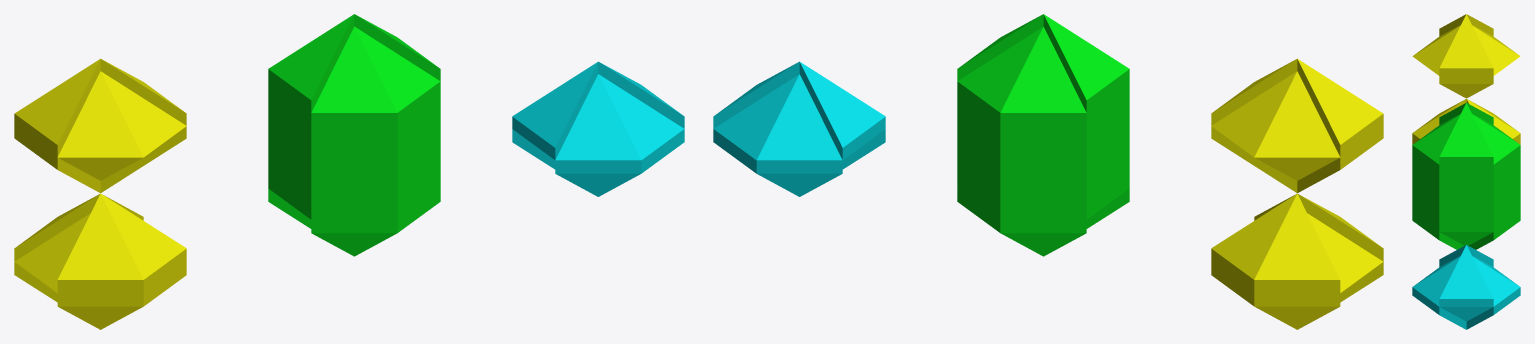
The model's file is tas.fbx.
3 renders of one model, left to right at view 1: azimuth 30°, elevation 25°; view 2: azimuth 150°, elevation 25°; view 3: azimuth 270°, elevation 25°, orthographic. The views are drawn at different scales.
Parts seen in each view (by area): view 1: Circle.001, Circle.006, Circle.013, Circle.003, Circle.012, Circle.004, Circle.002, Circle.005; view 2: Circle.001, Circle.006, Circle.013, Circle.003, Circle.012, Circle.004, Circle.002, Circle.005; view 3: Circle.001, Circle.013, Circle.003, Circle.012, Circle.002, Circle.006, Circle.005.
Part boxes in pixels (<box>): Circle.001: <box>268,14,440,219</box>; Circle.006: <box>14,193,186,293</box>; Circle.013: <box>512,61,684,160</box>; Circle.003: <box>14,58,186,157</box>; Circle.012: <box>512,129,684,196</box>; Circle.004: <box>14,262,186,329</box>; Circle.002: <box>268,188,440,256</box>; Circle.005: <box>14,126,186,193</box>; Circle.001: <box>957,14,1129,219</box>; Circle.006: <box>1211,193,1383,293</box>; Circle.013: <box>713,61,885,160</box>; Circle.003: <box>1211,58,1383,157</box>; Circle.012: <box>713,129,885,196</box>; Circle.004: <box>1211,262,1383,329</box>; Circle.002: <box>957,188,1129,256</box>; Circle.005: <box>1211,126,1383,193</box>; Circle.001: <box>1412,103,1520,231</box>; Circle.013: <box>1412,245,1520,306</box>; Circle.003: <box>1412,14,1520,75</box>; Circle.012: <box>1412,287,1520,329</box>; Circle.002: <box>1412,212,1520,249</box>; Circle.006: <box>1412,99,1520,143</box>; Circle.005: <box>1439,76,1493,98</box>.
Bounding box in the file's own units: 840 × 347 × 200.
